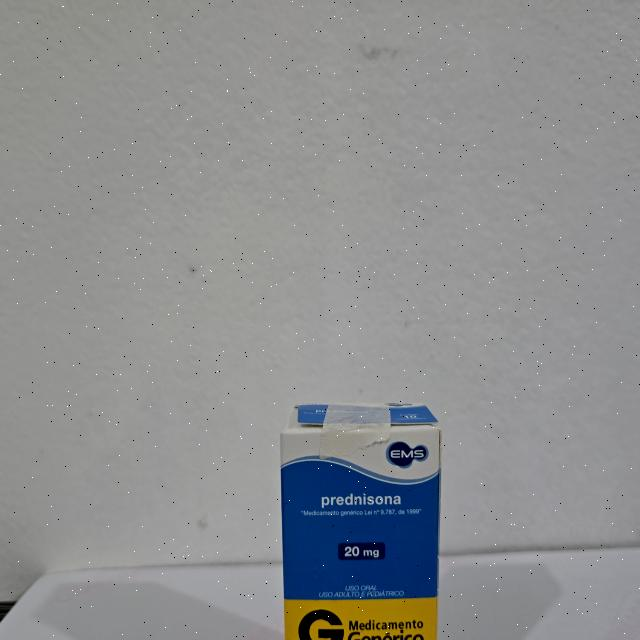prednisona: (274, 400, 446, 640)
